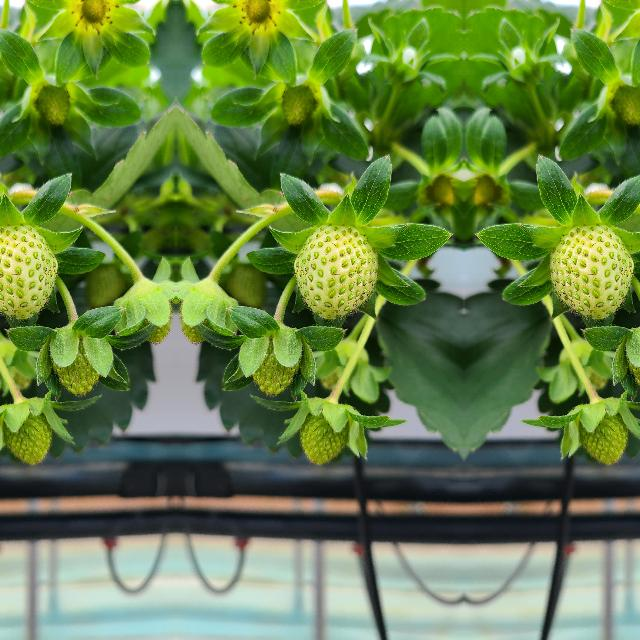Health_25: (290, 223, 380, 324), (546, 223, 636, 324), (0, 223, 60, 324), (242, 328, 306, 402), (44, 328, 108, 402), (301, 402, 355, 466), (571, 402, 625, 466), (0, 401, 49, 466), (271, 81, 323, 130), (27, 81, 79, 130), (603, 81, 640, 130), (229, 0, 286, 30), (63, 0, 120, 30), (620, 327, 640, 402)
